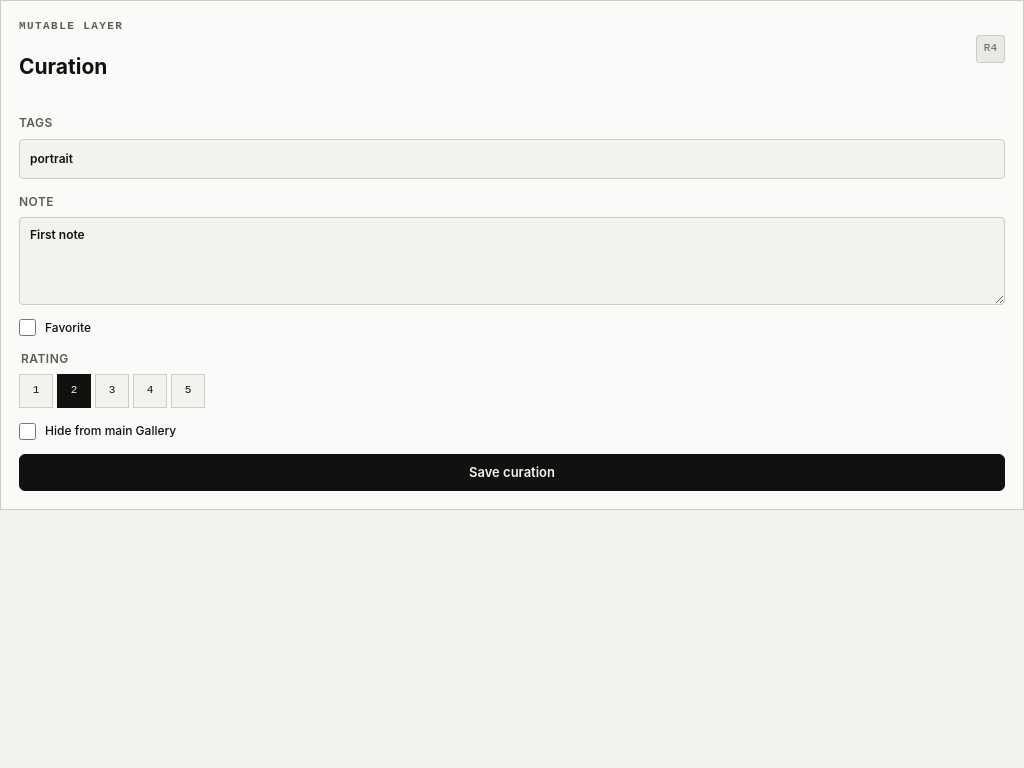
Test: CurationEditor › preserves local edits when optimistic concurrency conflicts
The image size is (1024, 768).
Step 1. Replace the text in the text box labelled "Note" with "Unsaved local note" → (512, 261), box 19,217 -> 1005,305
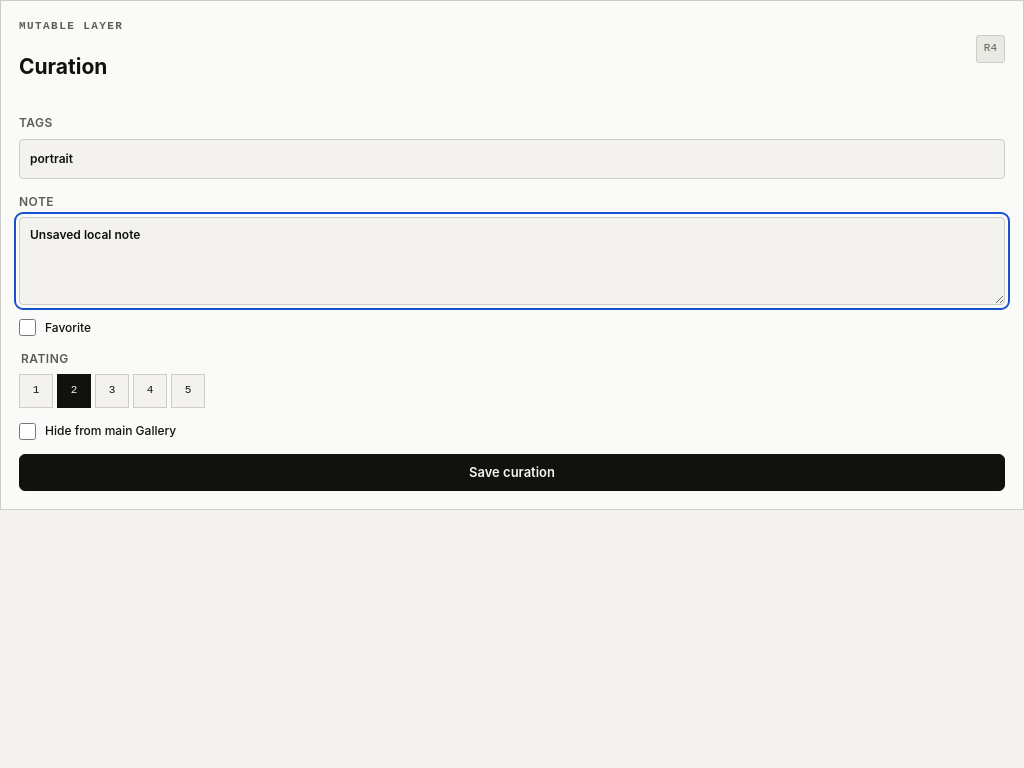
Step 2. Click the button "Save curation" → (512, 472), box 19,454 -> 1005,490
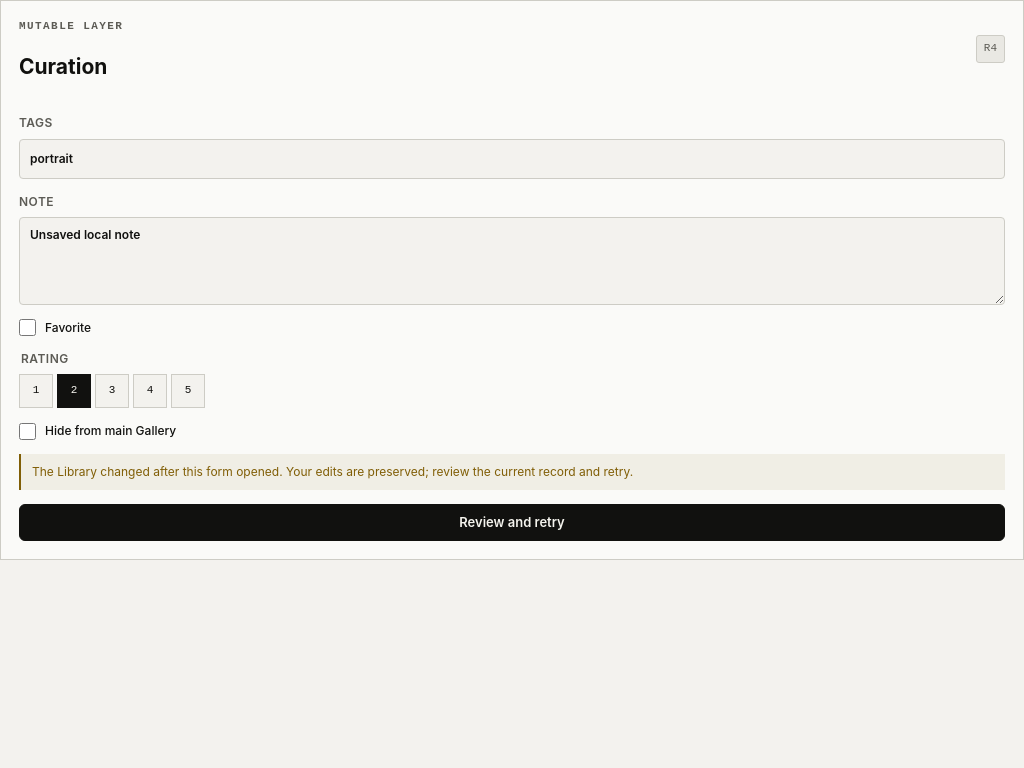
expect the text "edits are preserved" is shown: met, box 32,464 -> 633,479
expect the button "Review and retry" is shown: met, box 19,504 -> 1005,540
